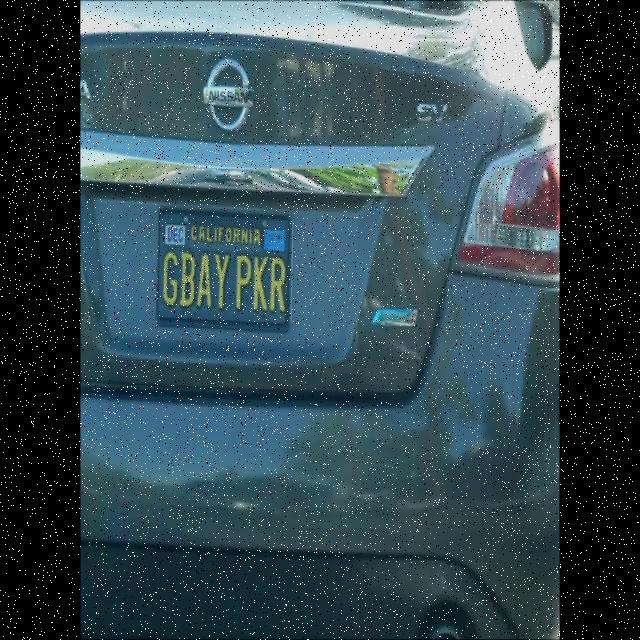licenseplate: (152, 195, 302, 342)
